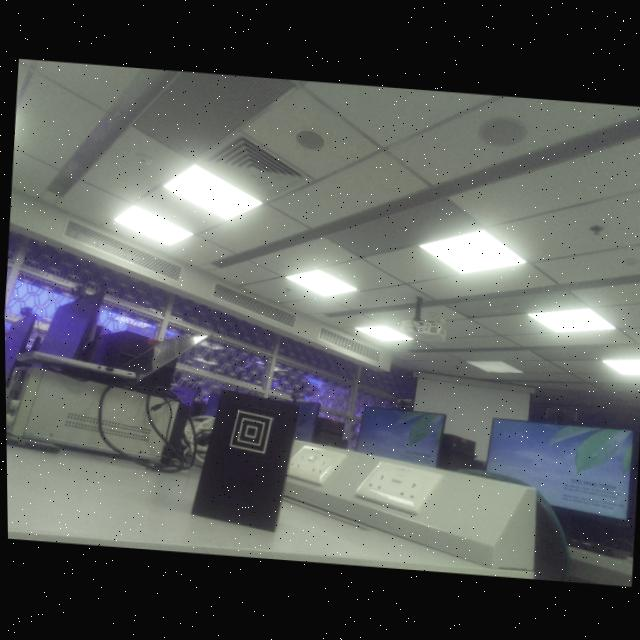BULLSEYE: (229, 410, 271, 453)
